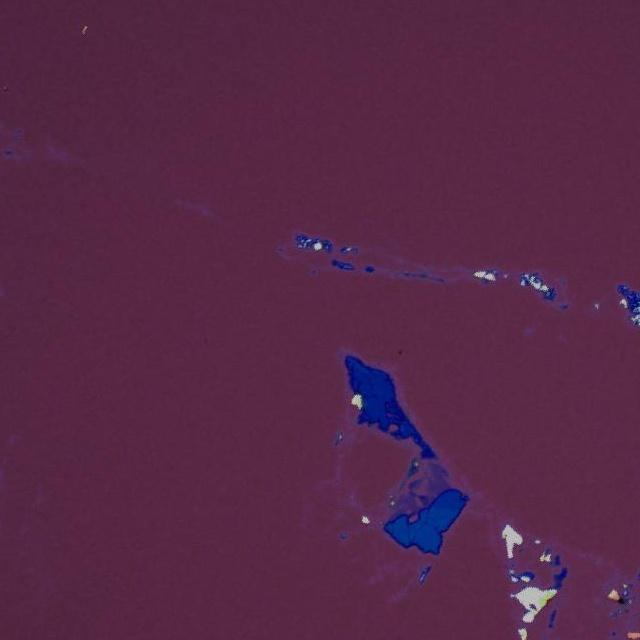monolayer-eWW4: (426, 460, 450, 500), (388, 498, 420, 518)
